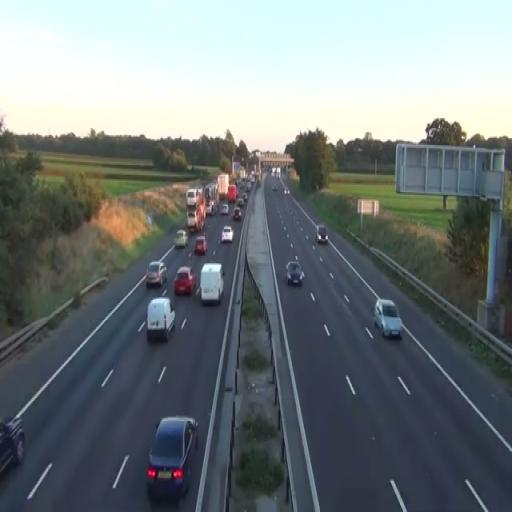Car: (146, 415, 198, 502), (0, 414, 26, 476), (146, 297, 176, 342), (373, 298, 402, 339), (173, 266, 196, 296), (145, 261, 168, 288), (286, 260, 304, 286), (194, 235, 208, 256), (174, 229, 188, 249), (221, 224, 234, 244), (316, 225, 328, 244), (232, 207, 242, 221)
Truck: (200, 262, 225, 305), (186, 187, 206, 233), (216, 174, 230, 200)
